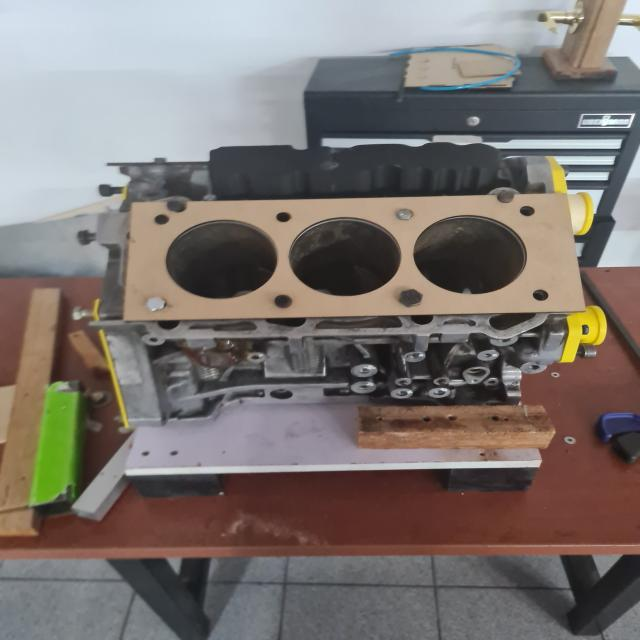vista1: (125, 193, 585, 321)
